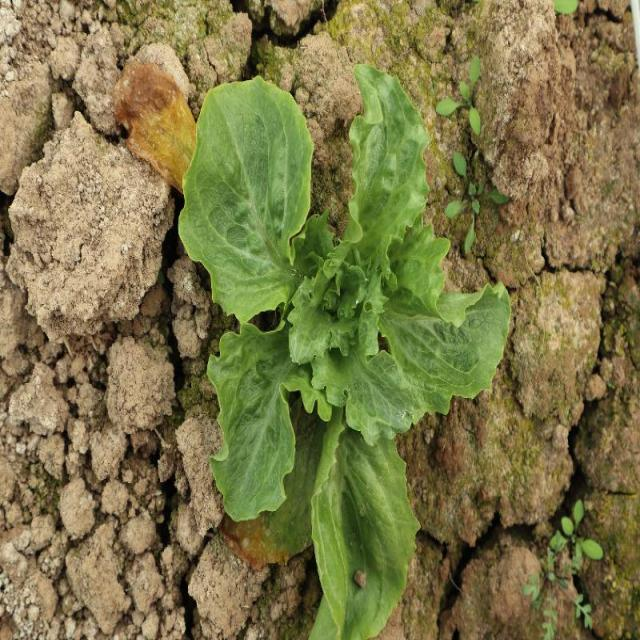crop: (175, 59, 512, 636)
